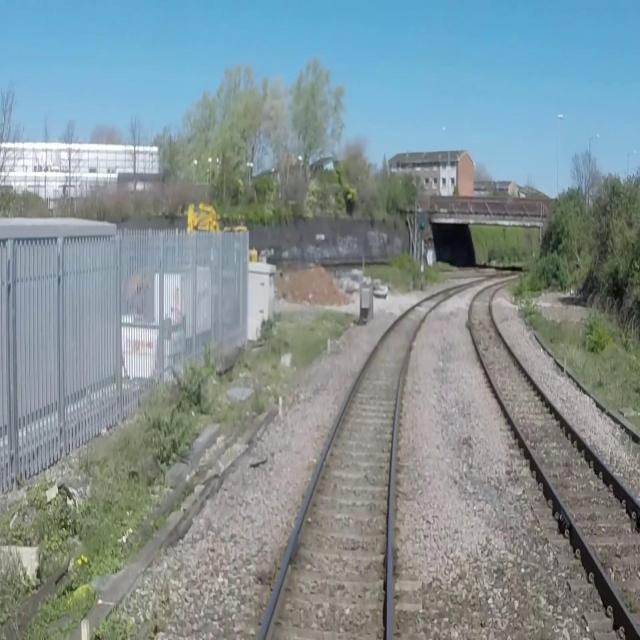rail-track: (262, 286, 461, 639), (471, 280, 640, 625)
